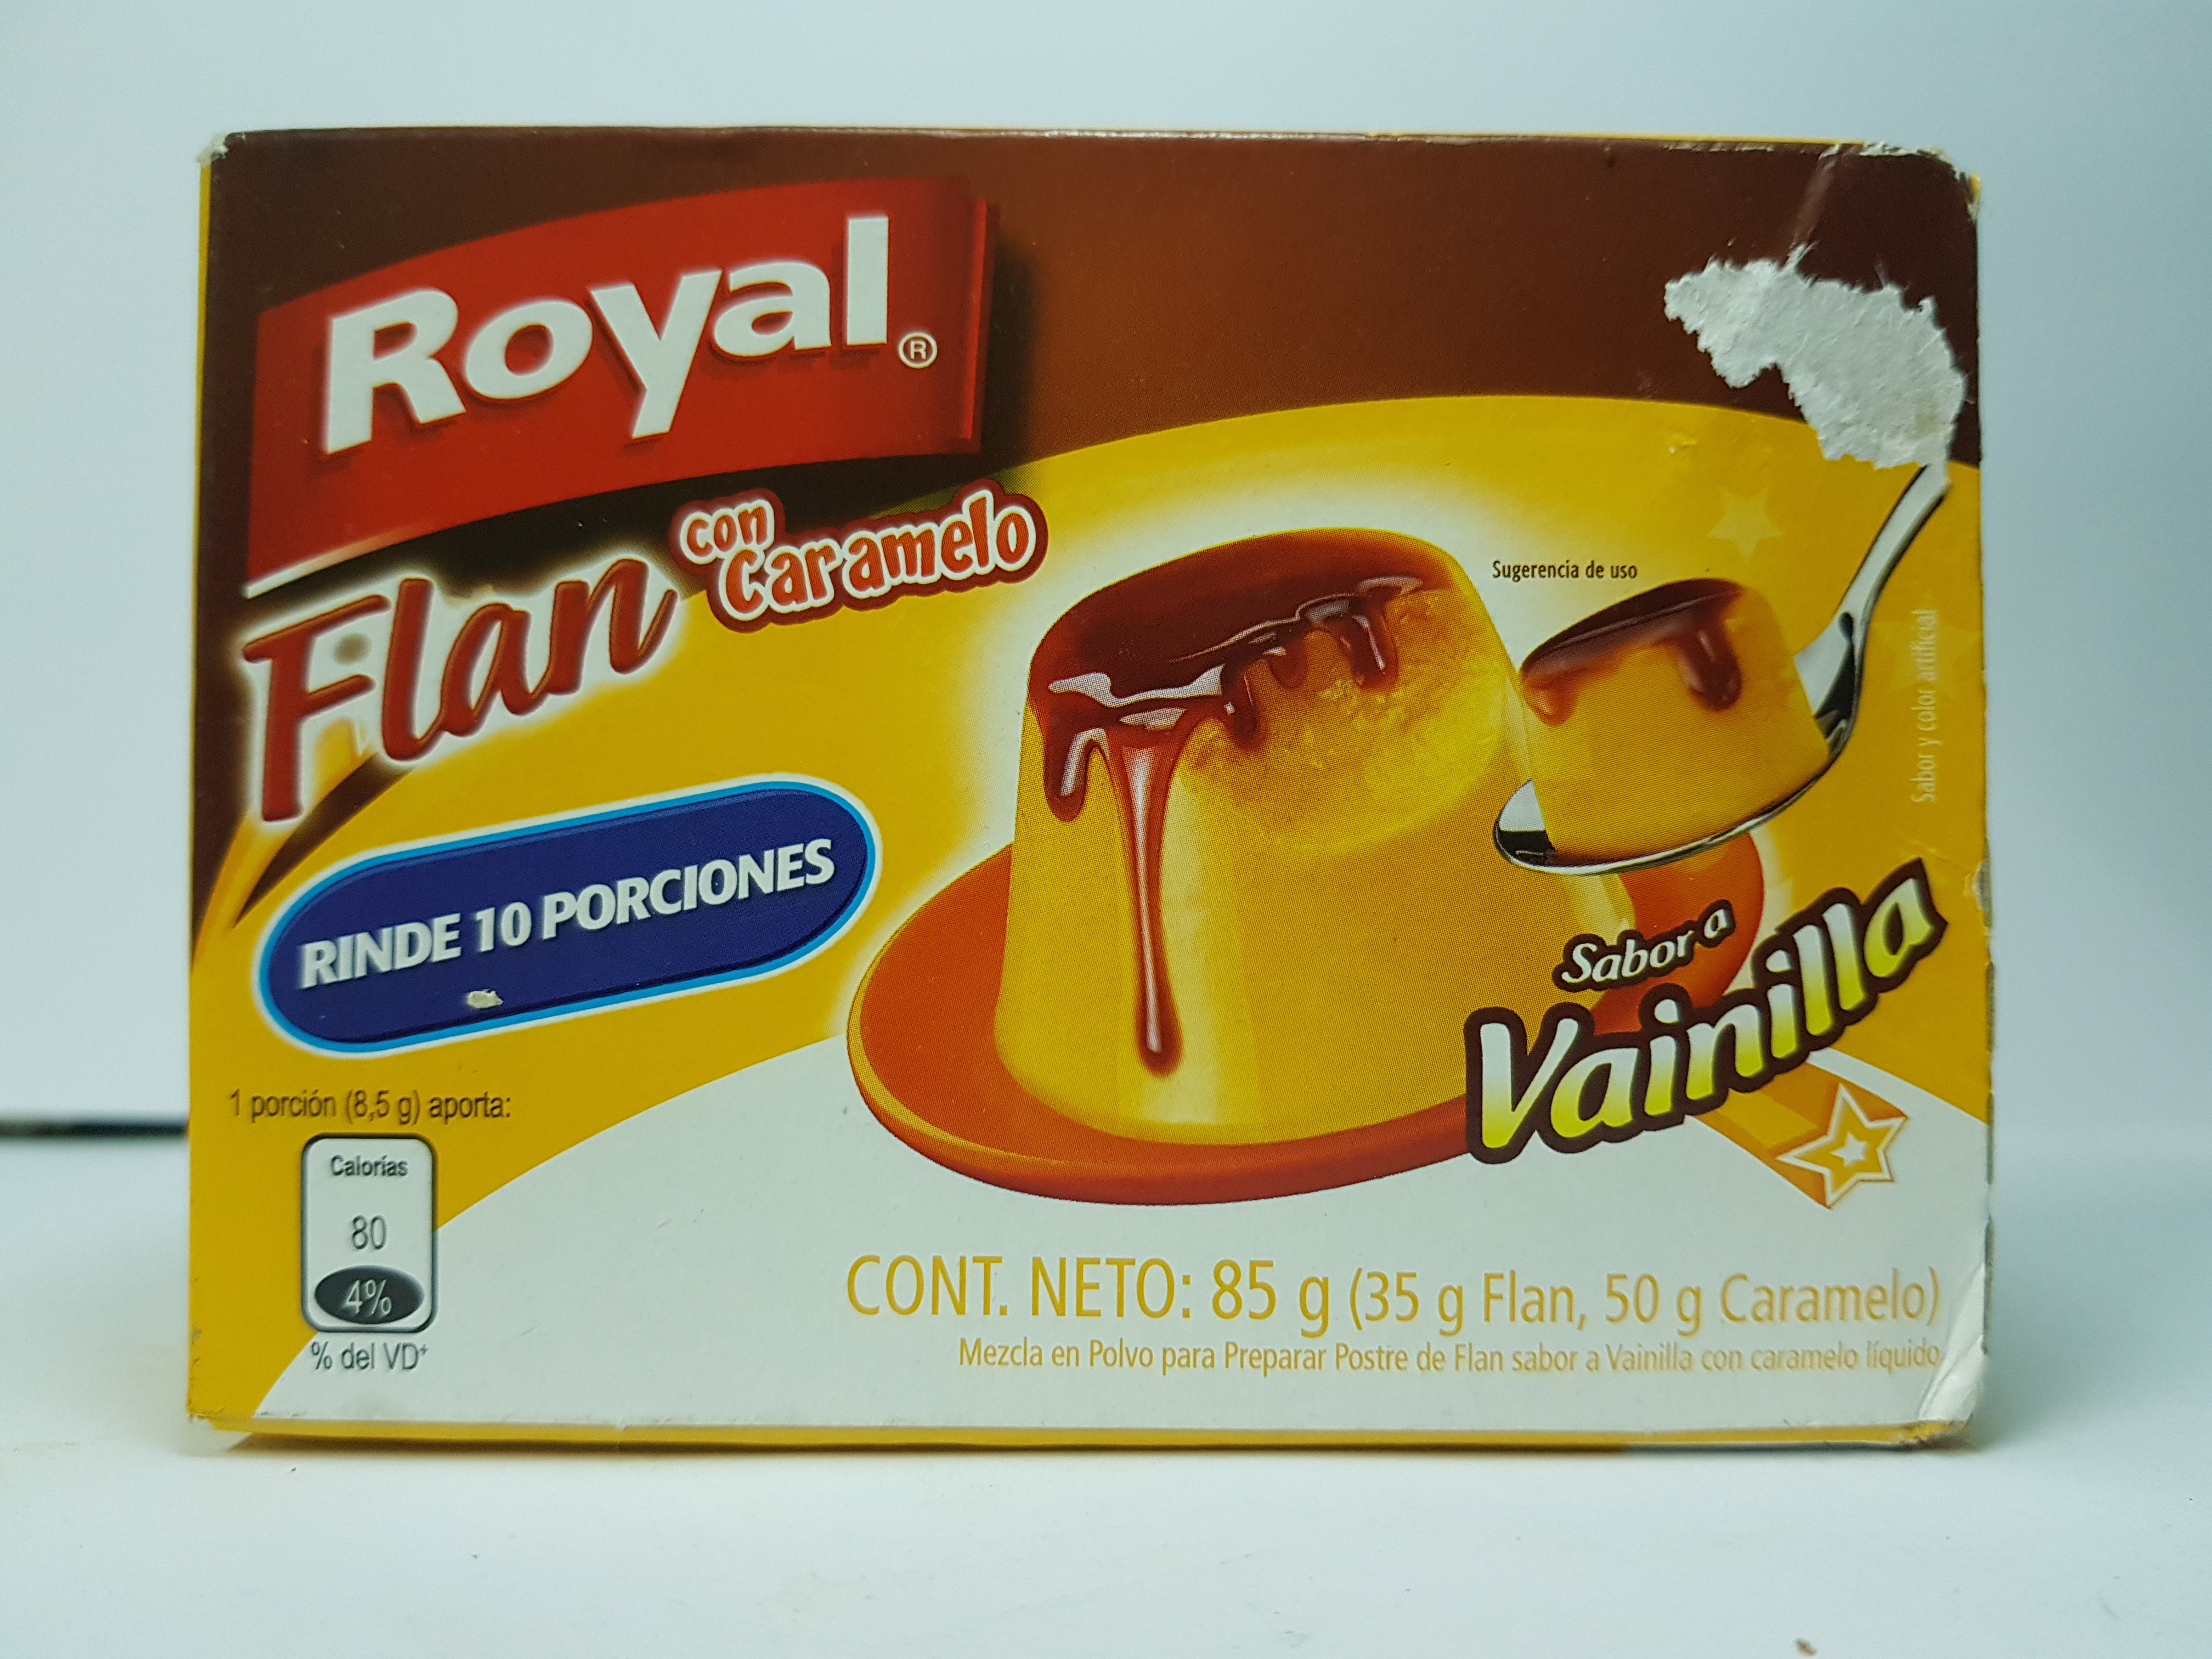flan: (148, 92, 2033, 1493)
